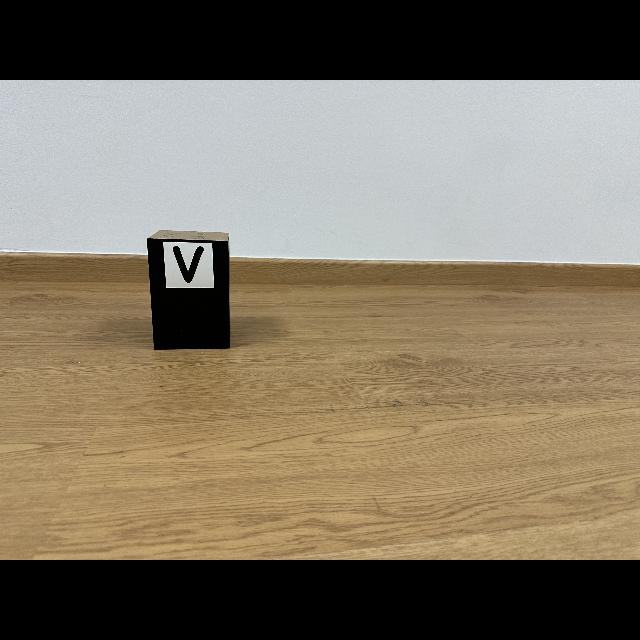V: (172, 246, 204, 282)
